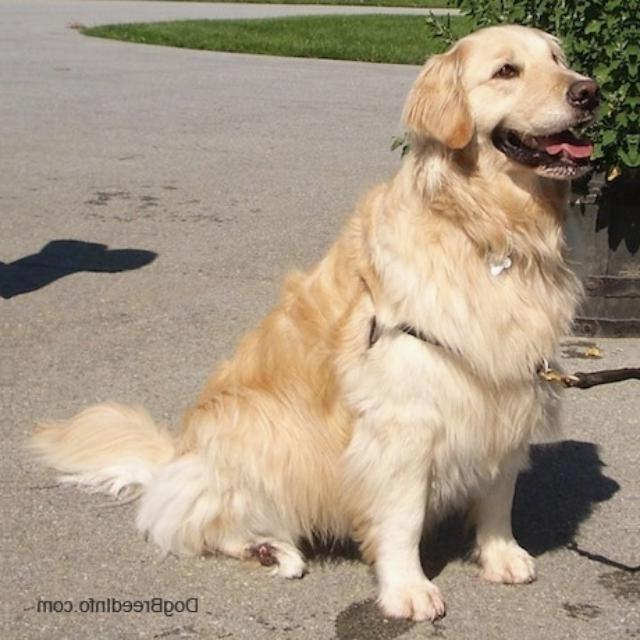dog: (47, 27, 616, 596)
